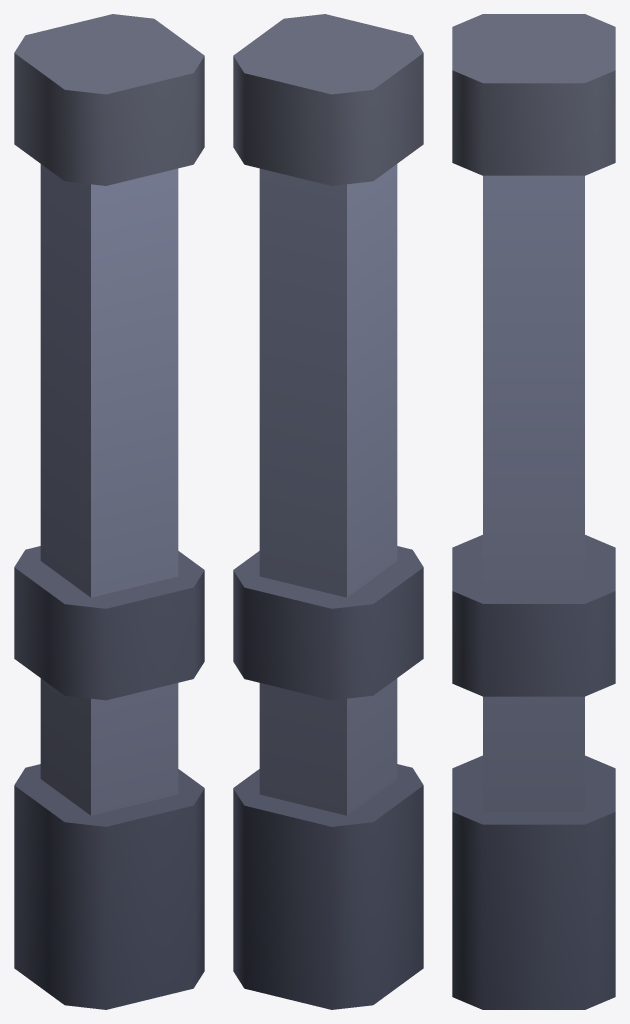
Rendered from T_pillar-stone.glb.
3 renders of one model, left to right at view 1: azimuth 30°, elevation 25°; view 2: azimuth 150°, elevation 25°; view 3: azimuth 270°, elevation 25°, orthographic.
Visible parts, largest first — view 1: pillar-stone; view 2: pillar-stone; view 3: pillar-stone.
Boxes of the visible parts, x1,y1,x2,y2 form: pillar-stone: [14, 14, 204, 1009]; pillar-stone: [233, 14, 423, 1009]; pillar-stone: [452, 14, 615, 1009].
Bounding box in the file's own units: 0.16 × 1 × 0.16.
